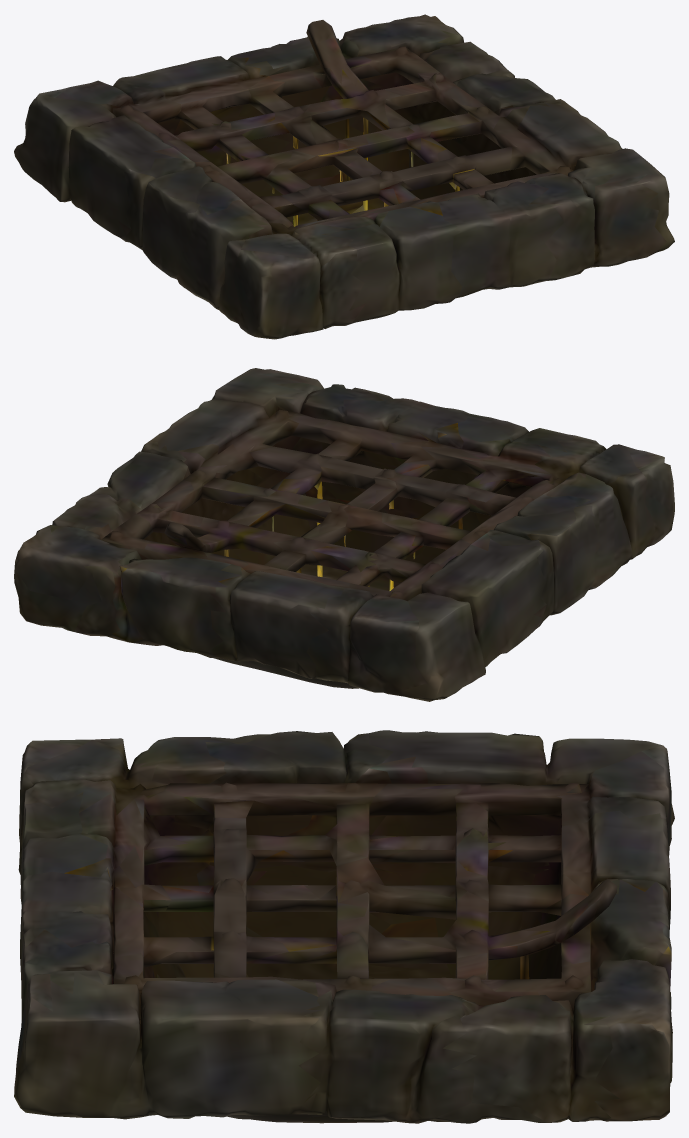
File: iron-floor-grate.glb
3 renders of one model, top to bottom at view 1: azimuth 30°, elevation 25°; view 2: azimuth 150°, elevation 25°; view 3: azimuth 270°, elevation 25°, orthographic. The views are drawn at different scales.
Visible parts, largest first — view 1: tripo_node_54728c07-8889-4dee-82fb-3b64fb7bb481; view 2: tripo_node_54728c07-8889-4dee-82fb-3b64fb7bb481; view 3: tripo_node_54728c07-8889-4dee-82fb-3b64fb7bb481.
Part boxes in pixels (box(x1,y1,x2,y2)): tripo_node_54728c07-8889-4dee-82fb-3b64fb7bb481: box(14, 14, 674, 339); tripo_node_54728c07-8889-4dee-82fb-3b64fb7bb481: box(14, 368, 674, 701); tripo_node_54728c07-8889-4dee-82fb-3b64fb7bb481: box(14, 730, 674, 1123).
Size of the model in its own units: 1 by 0.3623 by 0.9999.
1 material, 1 textured.
